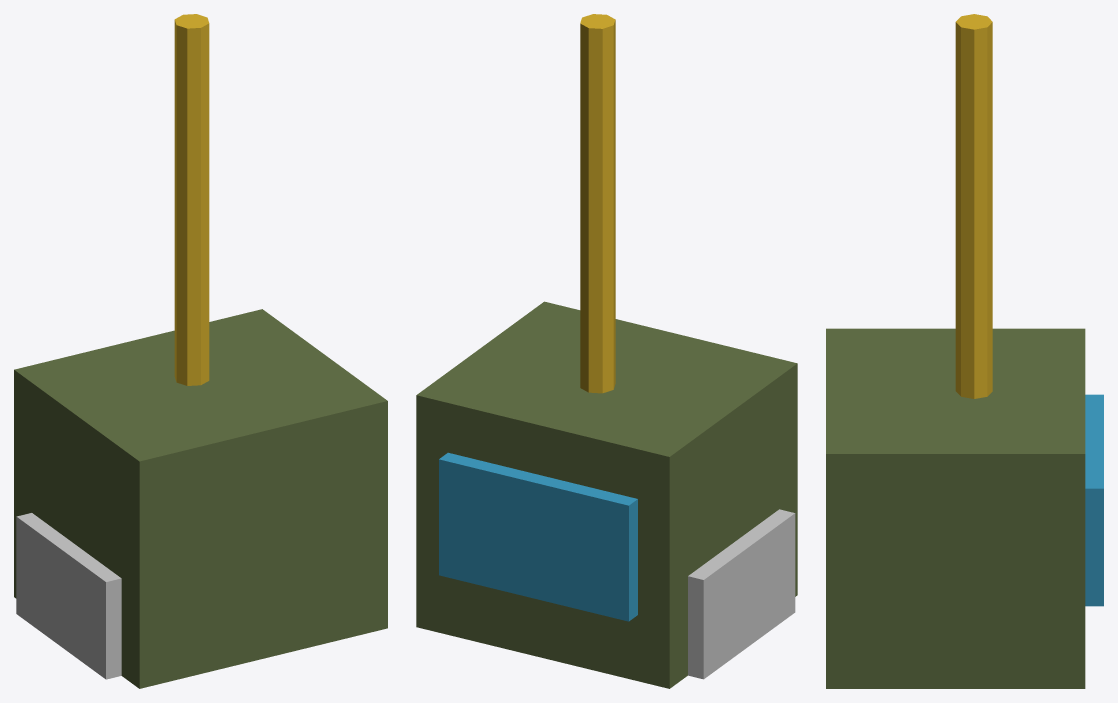
Rendered from jammer.obj.
3 views of the same model, side by side, from view 1: azimuth 30°, elevation 25°; view 2: azimuth 150°, elevation 25°; view 3: azimuth 270°, elevation 25° (orthographic). The views are drawn at different scales.
Parts seen in each view (by area): view 1: jammer; view 2: jammer; view 3: jammer.
Part boxes in pixels (x1,y1,x2,y2): jammer: (14, 14, 387, 688); jammer: (416, 14, 797, 688); jammer: (826, 14, 1103, 688).
Size of the model in its own units: 0.34 by 0.72 by 0.3.
